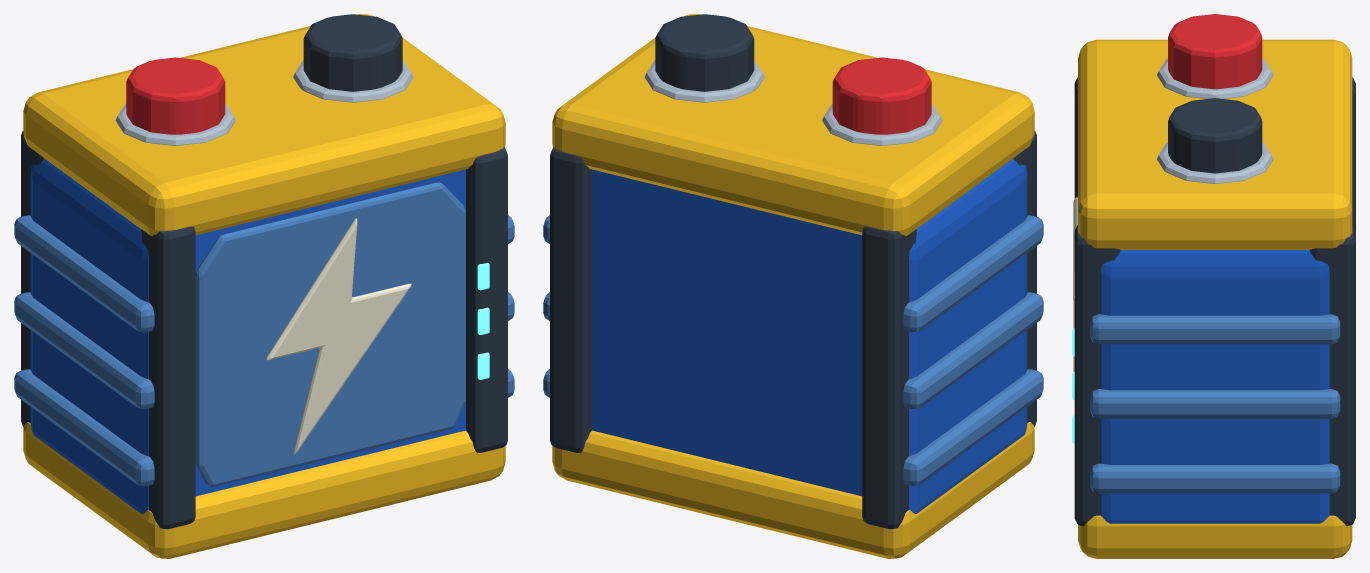
Rendered from ExpressBattery.fbx.
3 views of the same model, side by side, from view 1: azimuth 30°, elevation 25°; view 2: azimuth 150°, elevation 25°; view 3: azimuth 270°, elevation 25° (orthographic). The views are drawn at different scales.
Visible parts, largest first — view 1: ExpressBattery; view 2: ExpressBattery; view 3: ExpressBattery.
Boxes of the visible parts, left/top/right/bottom form: ExpressBattery: left=14, top=14, right=514, bottom=558; ExpressBattery: left=543, top=14, right=1043, bottom=558; ExpressBattery: left=1072, top=14, right=1355, bottom=558.
Bounding box in the file's own units: 1.24 × 1.31 × 0.827.
